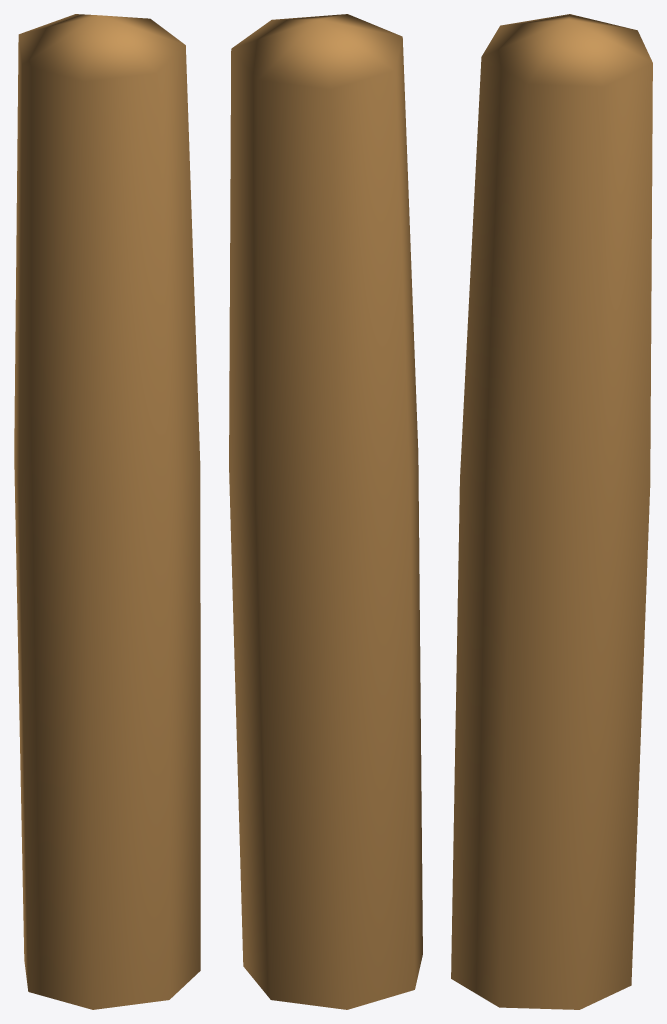
The model's file is claw_T2_left_leg.obj.
The picture shows the model from 3 angles, left to right: view 1: azimuth 30°, elevation 25°; view 2: azimuth 150°, elevation 25°; view 3: azimuth 270°, elevation 25°; orthographic projection.
Bounding box in the file's own units: 0.00209 × 0.0122 × 0.00226.
